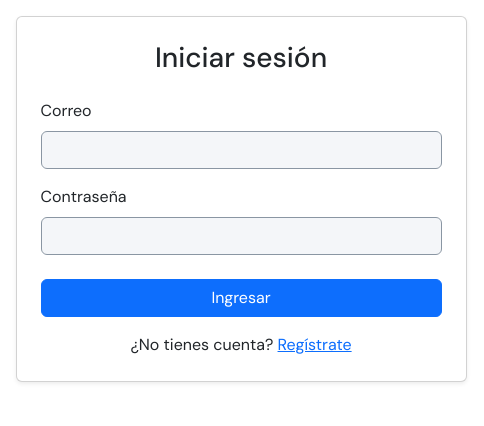
Login › valida el formato del correo
This screenshot has width=484, height=426.
Type "correo-malo" into the field labelled "Correo" at {"x": 241, "y": 150}, box [40,131,442,169]
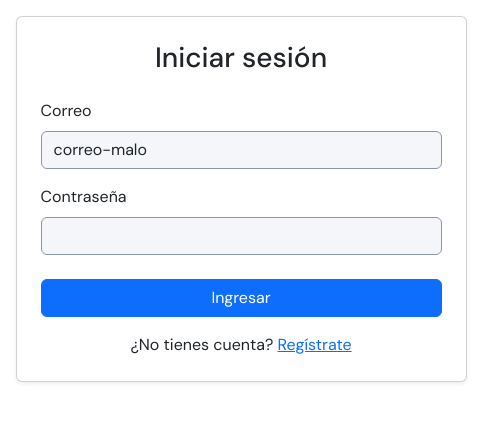
Type "123456" into the password field labelled "Contraseña" at {"x": 241, "y": 236}, box [40,217,442,255]
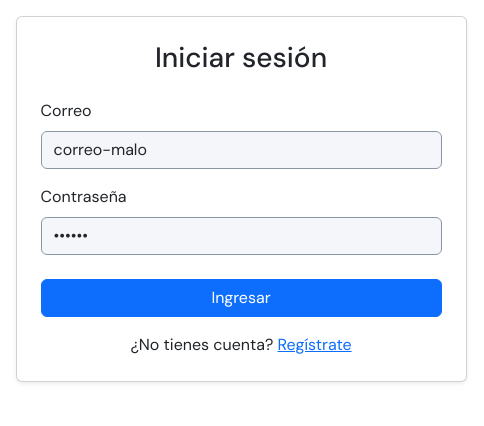
Click the button "Ingresar" at {"x": 241, "y": 298}, box [40,279,442,317]
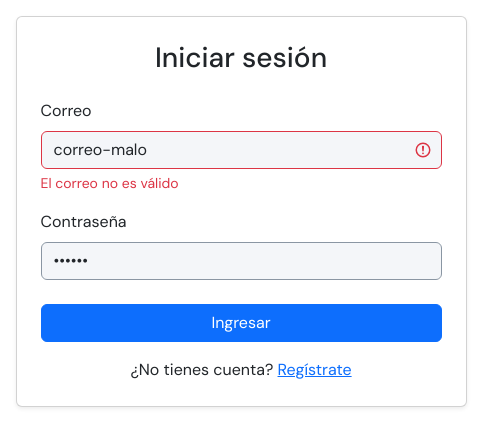
Expected: the text "El correo no es válido" is shown, [40,174,179,192]
